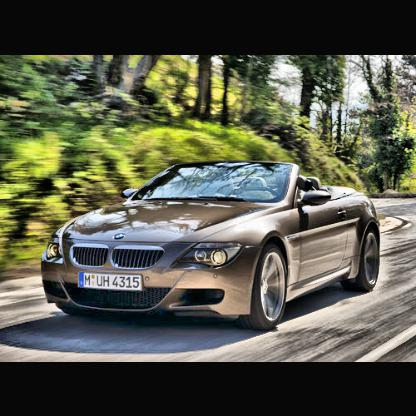BMW M6 Convertible 2010: (41, 162, 381, 332)
